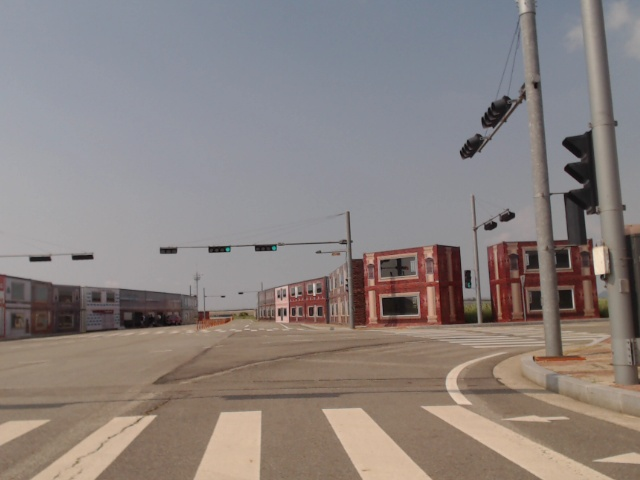straight_green_4: (255, 245, 278, 253), (209, 246, 232, 253)
